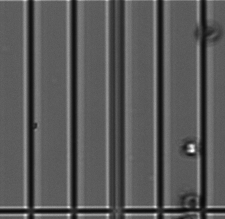Dead Cell: (196, 22, 221, 41), (182, 193, 200, 212)
Living Cell: (183, 140, 198, 158)
